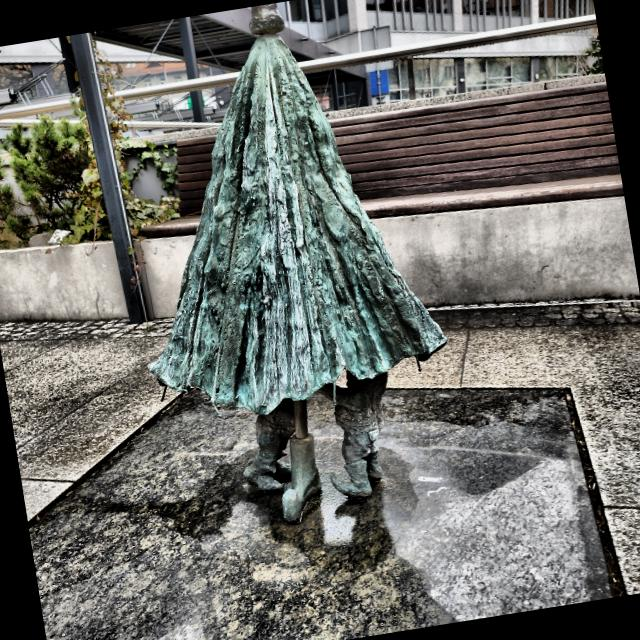Parasolniki: (149, 3, 446, 523)
